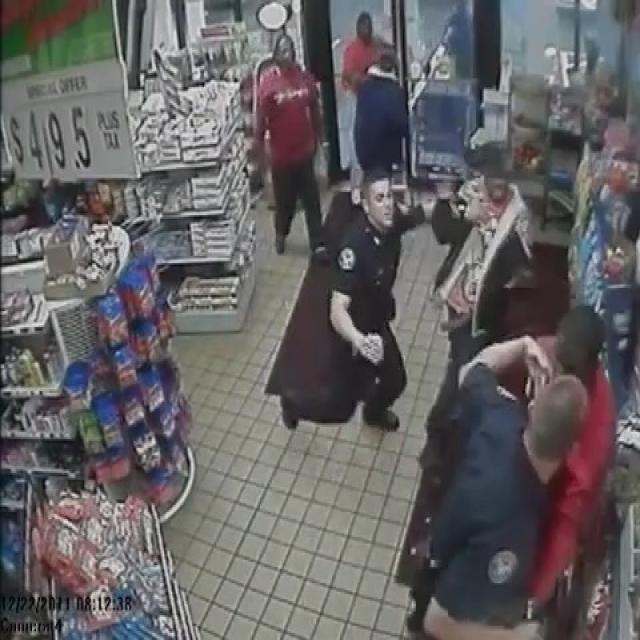fight: (419, 298, 621, 640), (341, 8, 408, 175)
